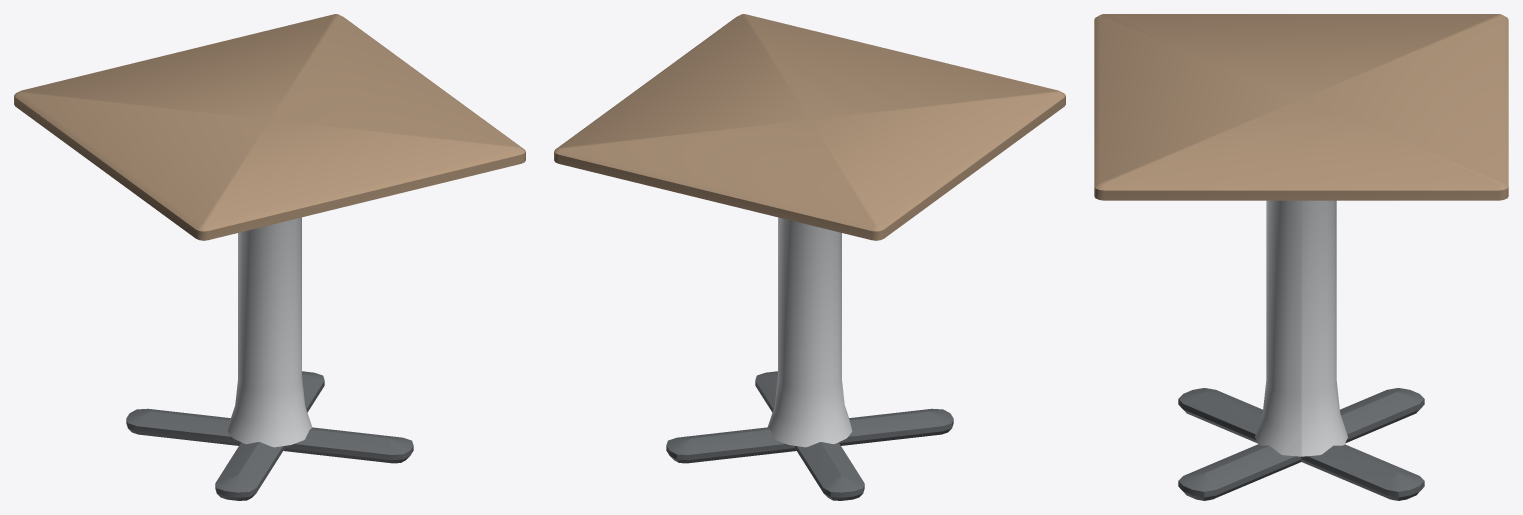
Rendered from restaurant-kitchen-and-dining-table-square-4-c6908b6c__16492.glb.
3 views of the same model, side by side, from view 1: azimuth 30°, elevation 25°; view 2: azimuth 150°, elevation 25°; view 3: azimuth 270°, elevation 25° (orthographic). The views are drawn at different scales.
Parts seen in each view (by area): view 1: table-square-4; view 2: table-square-4; view 3: table-square-4.
Part boxes in pixels (<box>): table-square-4: <box>14,14,525,500</box>; table-square-4: <box>554,14,1065,500</box>; table-square-4: <box>1094,14,1508,500</box>.
Bounding box in the file's own units: 0.8 × 0.75 × 0.8.
